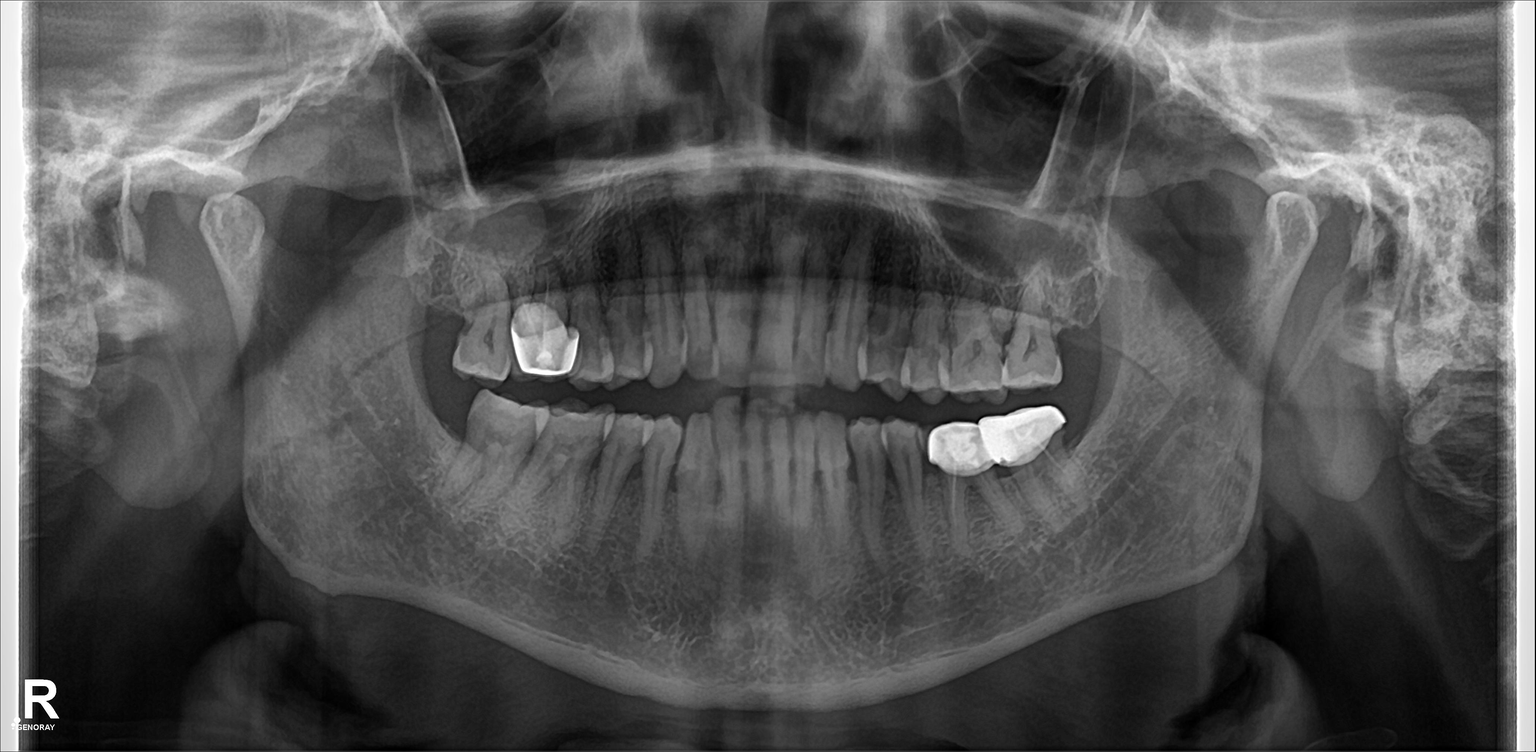Dental Caries: (989, 419, 1077, 521), (512, 272, 583, 375), (933, 419, 992, 541)
Missing Tooth: (419, 277, 462, 380), (1080, 396, 1126, 487), (415, 393, 466, 475), (1056, 305, 1097, 377)
